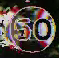Speed limit: (4, 5, 56, 57)
